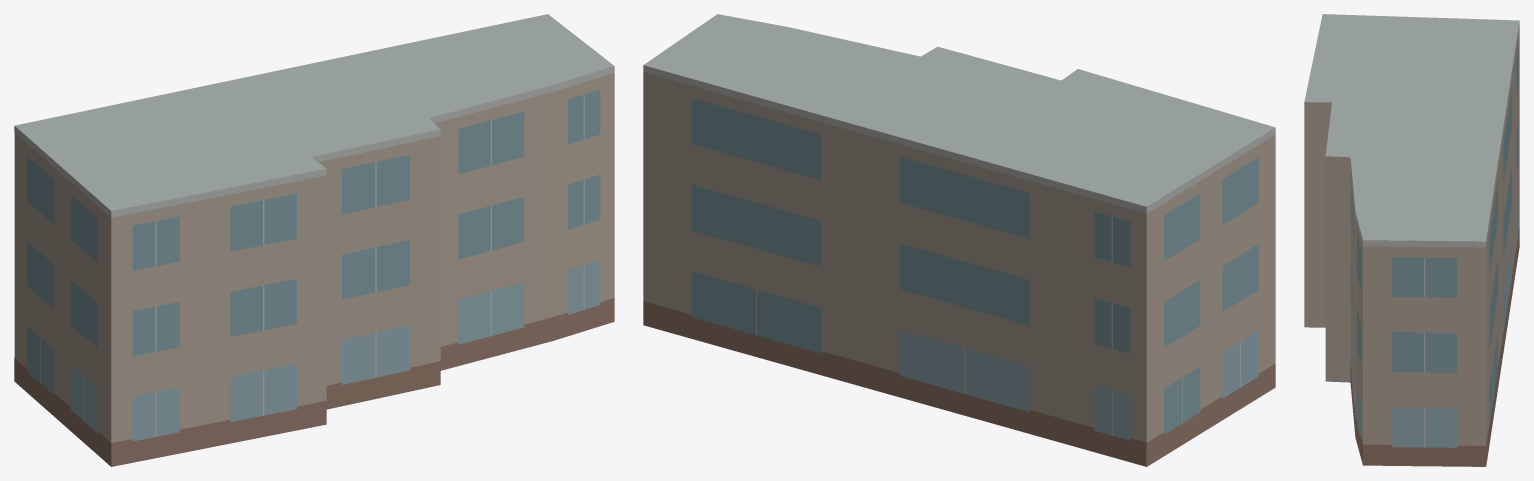
Rendered from survey-upis-33038688.glb.
The picture shows the model from 3 angles, left to right: view 1: azimuth 30°, elevation 25°; view 2: azimuth 150°, elevation 25°; view 3: azimuth 270°, elevation 25°; orthographic projection. The views are drawn at different scales.
Parts seen in each view (by area): view 1: survey-upis-33038688.tmp; view 2: survey-upis-33038688.tmp; view 3: survey-upis-33038688.tmp.
Part boxes in pixels (left/top/right/bottom): survey-upis-33038688.tmp: left=14, top=14, right=614, bottom=466; survey-upis-33038688.tmp: left=643, top=14, right=1275, bottom=466; survey-upis-33038688.tmp: left=1304, top=14, right=1519, bottom=466.
Size of the model in its own units: 19.83 by 9.15 by 7.94.
